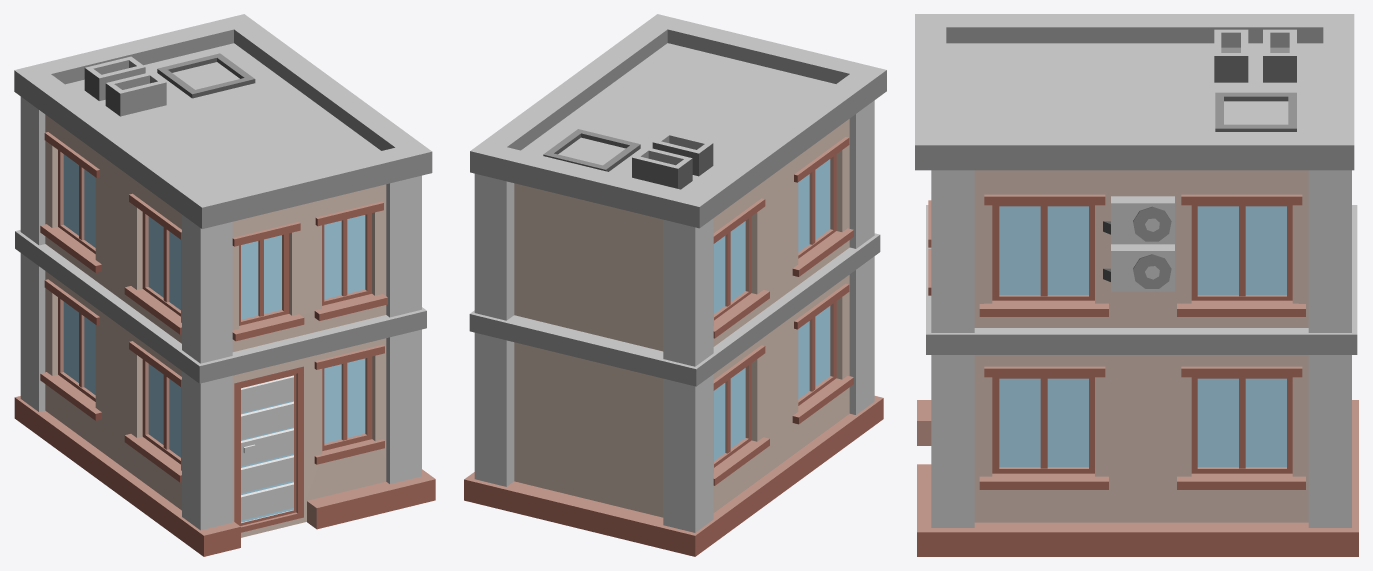
Rendered from house_small_1_008.glb.
3 renders of one model, left to right at view 1: azimuth 30°, elevation 25°; view 2: azimuth 150°, elevation 25°; view 3: azimuth 270°, elevation 25°, orthographic. The views are drawn at different scales.
Visible parts, largest first — view 1: house_small_1_008; view 2: house_small_1_008; view 3: house_small_1_008.
Part boxes in pixels (box(x1,y1,x2,y2)): house_small_1_008: box(14, 14, 435, 556); house_small_1_008: box(464, 14, 886, 556); house_small_1_008: box(915, 14, 1358, 556).
Bounding box in the file's own units: 4.09 × 5.99 × 5.74.
Materials: 1 (1 with a texture image).
